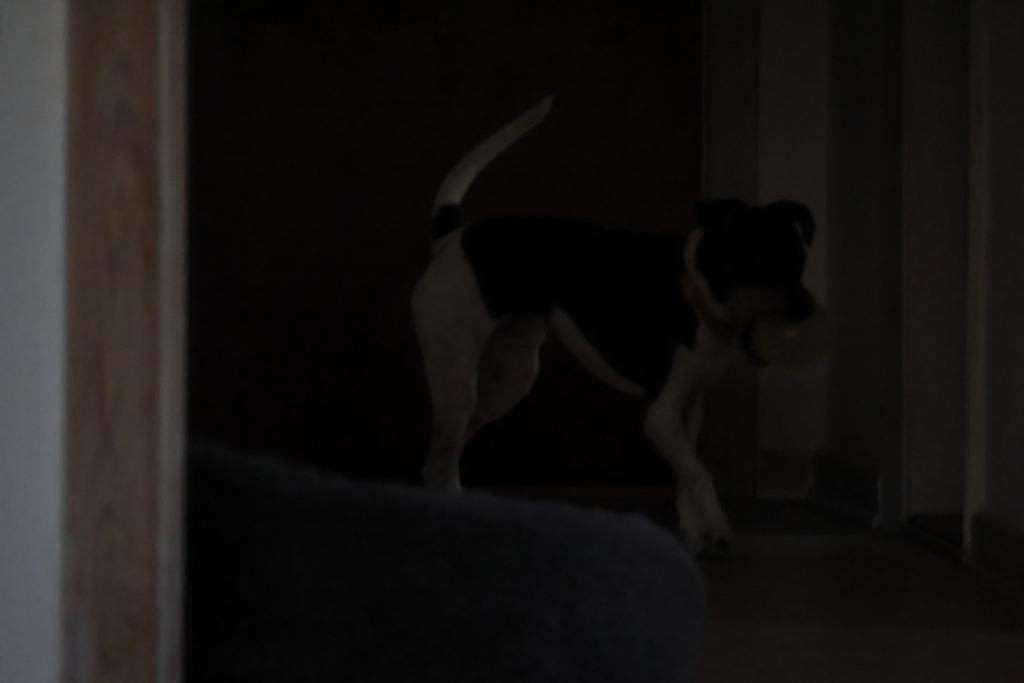Dog: (396, 75, 842, 580)
